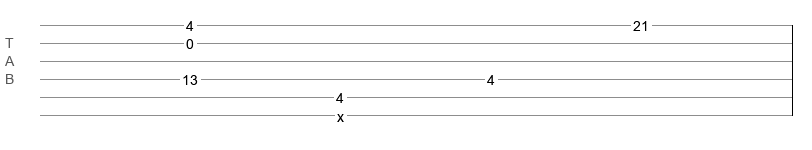0: (186, 36, 194, 46)
13: (182, 72, 198, 82)
21: (633, 18, 649, 28)
4: (186, 18, 194, 28), (336, 90, 344, 100), (487, 72, 495, 82)
x: (337, 109, 344, 117)
